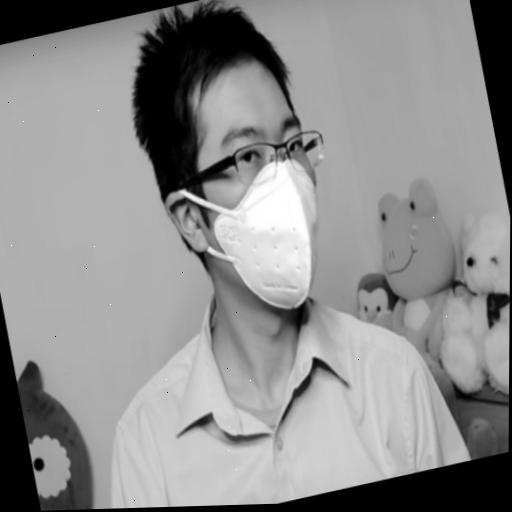mask: (168, 59, 341, 326)
